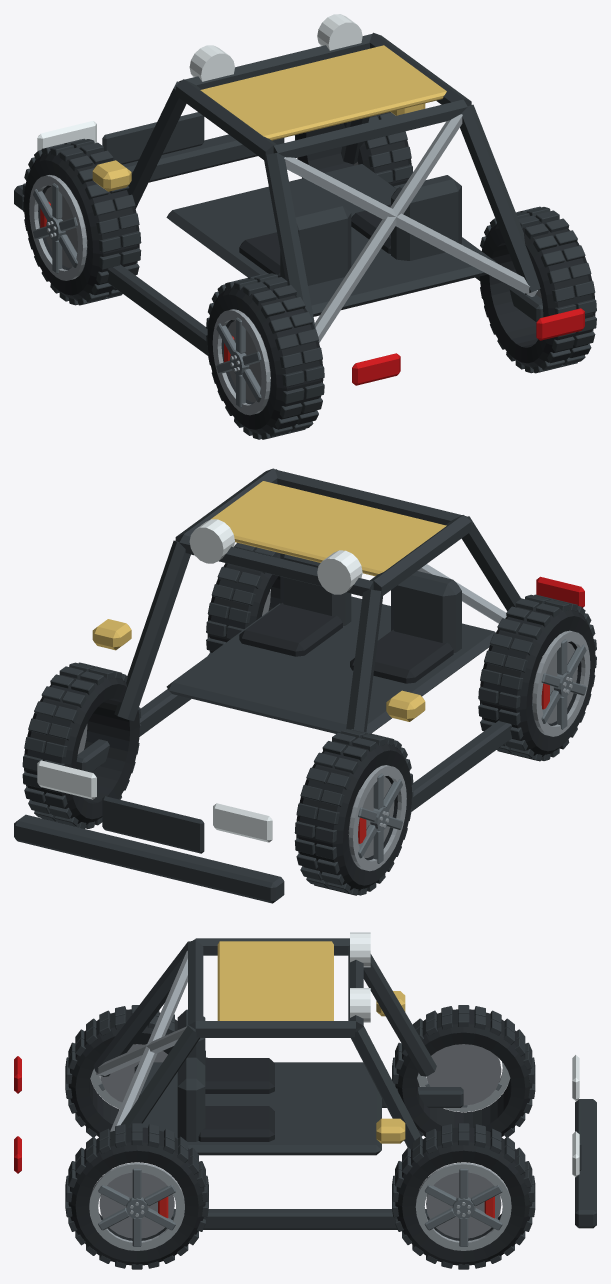
File: car_buggy.glb
3 renders of one model, top to bottom at view 1: azimuth 30°, elevation 25°; view 2: azimuth 150°, elevation 25°; view 3: azimuth 270°, elevation 25°, orthographic. The views are drawn at different scales.
Visible parts, largest first — view 1: Body.003, WheelMesh.014, WheelMesh.012, WheelMesh.015, WheelMesh.013; view 2: Body.003, WheelMesh.012, WheelMesh.014, WheelMesh.013, WheelMesh.015; view 3: Body.003, WheelMesh.015, WheelMesh.013, WheelMesh.012, WheelMesh.014.
Boxes of the visible parts, x1,y1,x2,y2 form: Body.003: (14,14,584,385); WheelMesh.014: (206,273,324,439); WheelMesh.012: (22,138,141,305); WheelMesh.015: (479,206,596,373); WheelMesh.013: (295,112,412,188); Body.003: (14,468,584,903); WheelMesh.012: (294,729,413,895); WheelMesh.014: (478,594,596,761); WheelMesh.013: (22,662,141,828); WheelMesh.015: (206,542,280,655); Body.003: (14,932,596,1229); WheelMesh.015: (65,1123,208,1269); WheelMesh.013: (392,1123,535,1269); WheelMesh.012: (392,1005,535,1137); WheelMesh.014: (65,1005,207,1137).
Size of the model in its own units: 2.36 by 1.82 by 4.
